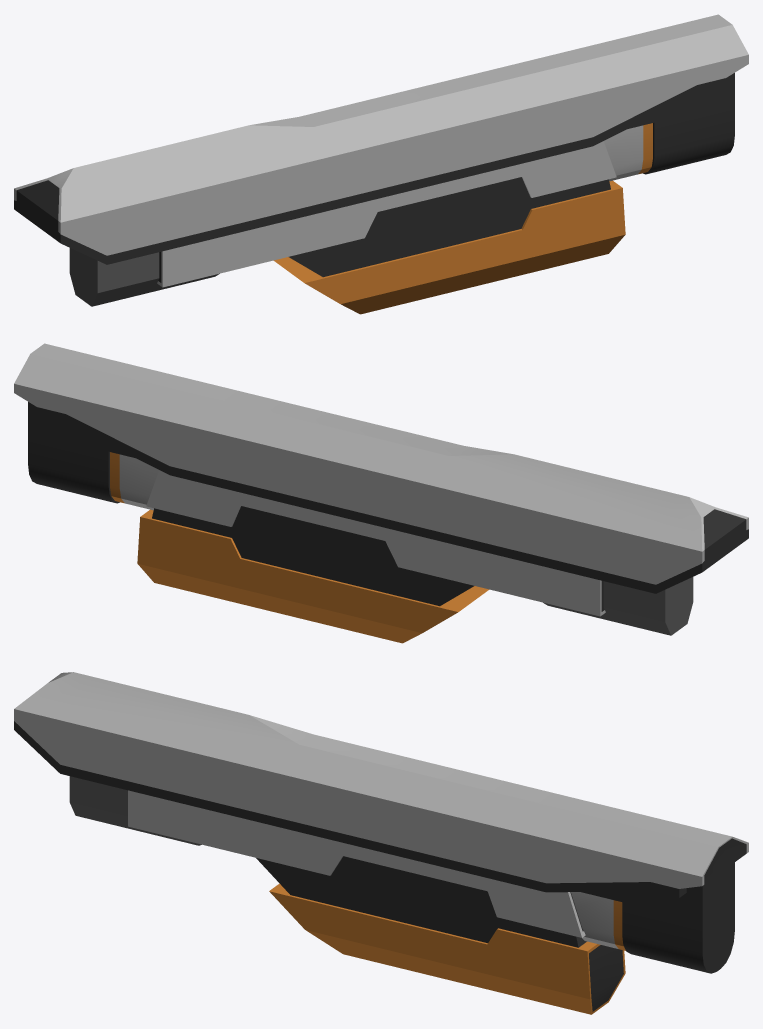
The model's file is Body_Sniper_2.gltf.
3 renders of one model, top to bottom at view 1: azimuth 30°, elevation 25°; view 2: azimuth 150°, elevation 25°; view 3: azimuth 330°, elevation 25°, orthographic.
Parts seen in each view (by area): view 1: Body_Sniper_2; view 2: Body_Sniper_2; view 3: Body_Sniper_2.
Boxes of the visible parts, x1,y1,x2,y2 form: Body_Sniper_2: [14, 14, 748, 314]; Body_Sniper_2: [14, 343, 748, 643]; Body_Sniper_2: [14, 672, 748, 1014].
Size of the model in its own units: 1.52 by 0.4378 by 0.1784.
